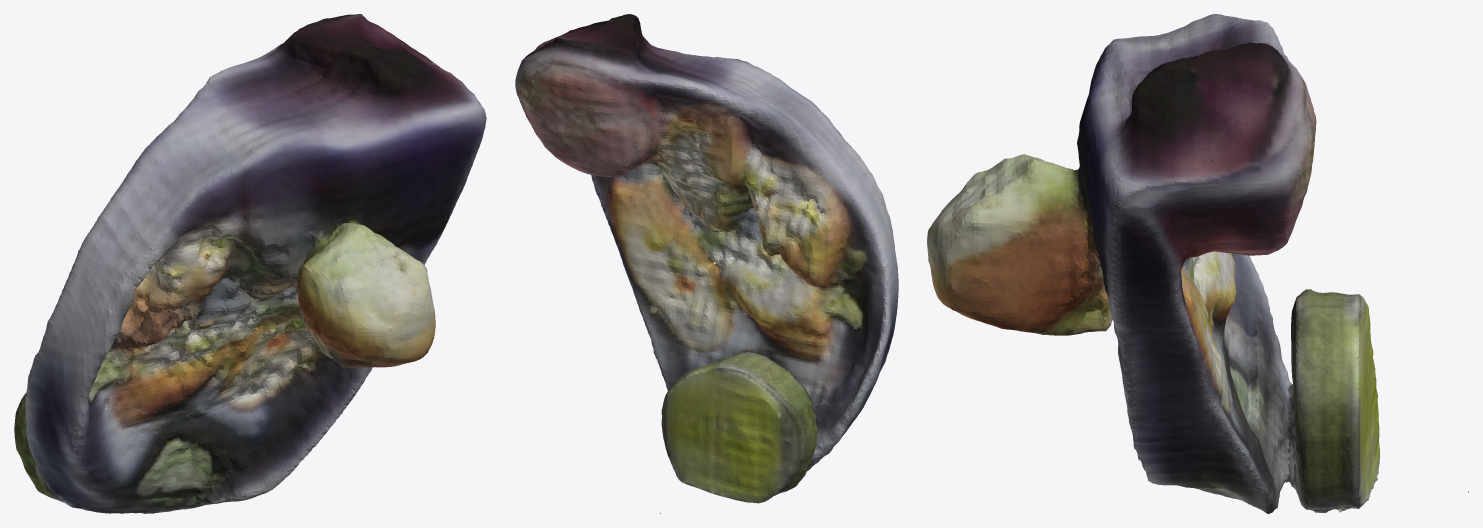
File: dahi ke sholay.glb
3 renders of one model, left to right at view 1: azimuth 30°, elevation 25°; view 2: azimuth 150°, elevation 25°; view 3: azimuth 270°, elevation 25°, orthographic. The views are drawn at different scales.
Parts seen in each view (by area): view 1: world; view 2: world; view 3: world.
Part boxes in pixels (x1,y1,x2,y2): world: (14, 14, 486, 513); world: (515, 14, 898, 513); world: (927, 14, 1468, 513).
Bounding box in the file's own units: 1.96 × 2 × 1.86.
